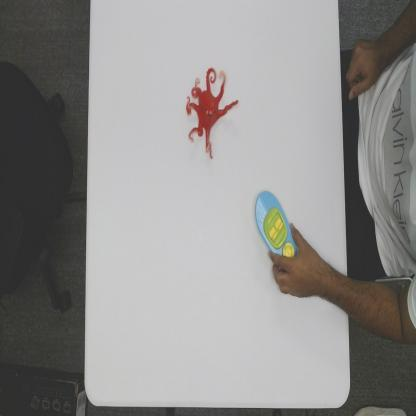Arm: (327, 259, 416, 346)
Boat: (254, 189, 298, 259)
Hand: (267, 222, 327, 302)
Octopus: (185, 67, 239, 161)
